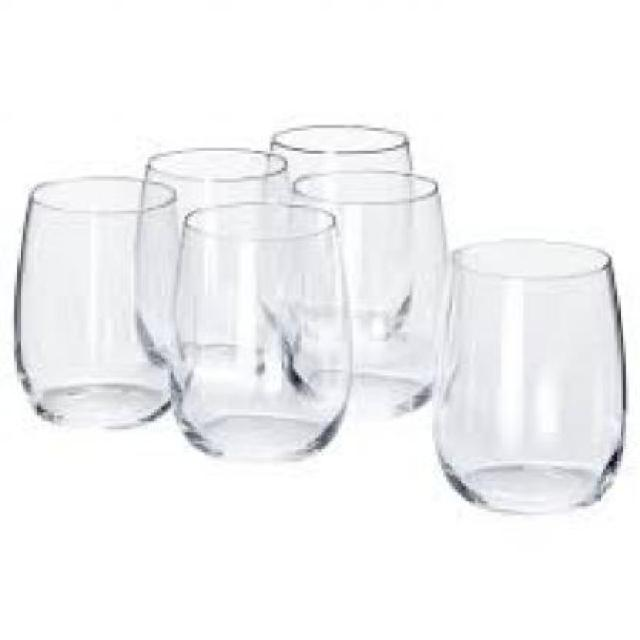kaca: (438, 238, 620, 510), (171, 200, 346, 458), (13, 177, 185, 426), (290, 168, 442, 415), (134, 144, 289, 362), (262, 123, 409, 351)
